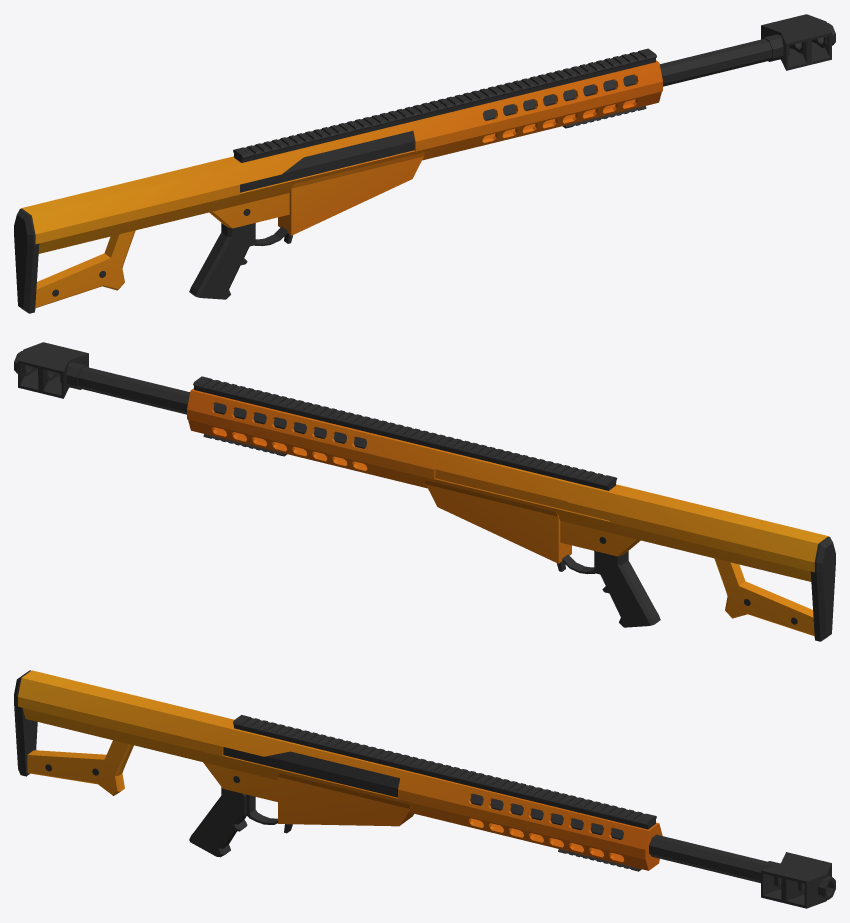
The model's file is SniperRifle4_05.fbx.
The picture shows the model from 3 angles, top to bottom: view 1: azimuth 30°, elevation 25°; view 2: azimuth 150°, elevation 25°; view 3: azimuth 330°, elevation 25°; orthographic projection.
Visible parts, largest first — view 1: SniperRifle4_05; view 2: SniperRifle4_05; view 3: SniperRifle4_05.
Part boxes in pixels (bbox=[...]): SniperRifle4_05: bbox=[14, 14, 835, 313]; SniperRifle4_05: bbox=[14, 342, 835, 641]; SniperRifle4_05: bbox=[14, 670, 835, 908].
Size of the model in its own units: 1.39 by 0.2303 by 0.0749.
